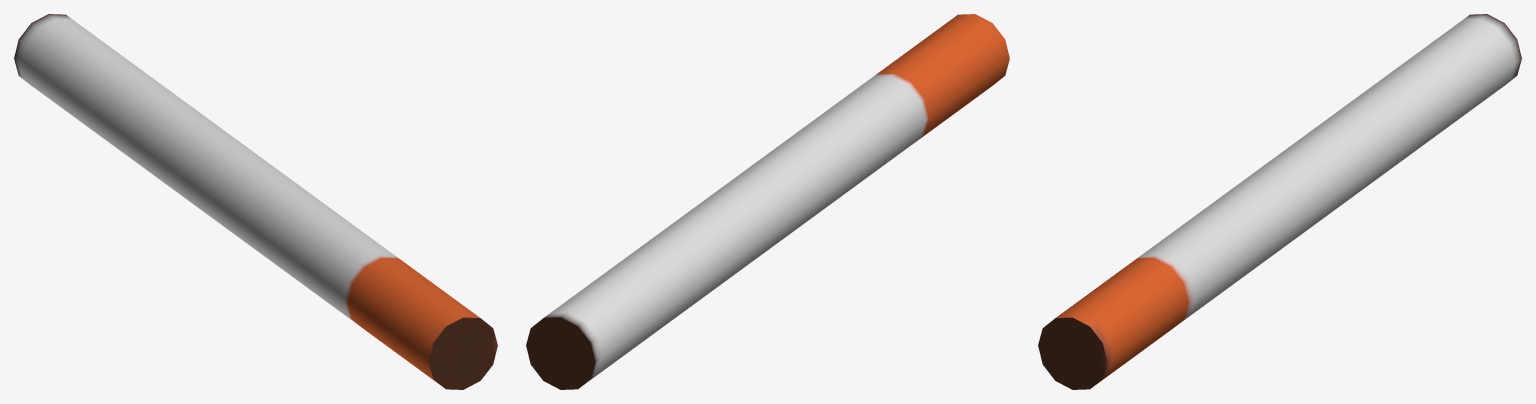
File: Cigarette_2.fbx
The picture shows the model from 3 angles, left to right: view 1: azimuth 30°, elevation 25°; view 2: azimuth 150°, elevation 25°; view 3: azimuth 330°, elevation 25°; orthographic projection.
Visible parts, largest first — view 1: Cigarette_2; view 2: Cigarette_2; view 3: Cigarette_2.
Boxes of the visible parts, box(x1,y1,x2,y2) form: Cigarette_2: box(14, 14, 497, 389); Cigarette_2: box(526, 14, 1009, 389); Cigarette_2: box(1038, 14, 1521, 389).
Bounding box in the file's own units: 0.0081 × 0.0081 × 0.084.
